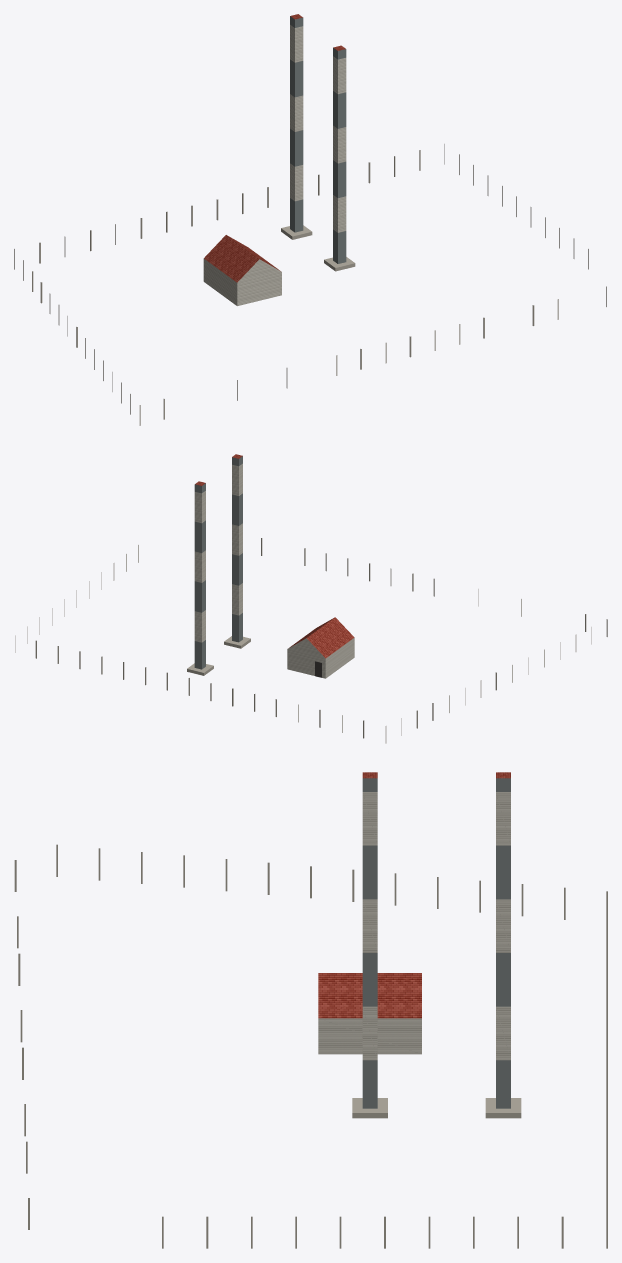
The model's file is cyxd_ndb_zxd_lod2.gltf.
The picture shows the model from 3 angles, top to bottom: view 1: azimuth 30°, elevation 25°; view 2: azimuth 150°, elevation 25°; view 3: azimuth 270°, elevation 25°; orthographic projection. The views are drawn at different scales.
Parts seen in each view (by area): view 1: cyxd_ndb_zxd; view 2: cyxd_ndb_zxd; view 3: cyxd_ndb_zxd.
Boxes of the visible parts, <box> form: cyxd_ndb_zxd: <box>14,14,606,425</box>; cyxd_ndb_zxd: <box>15,454,607,743</box>; cyxd_ndb_zxd: <box>14,772,607,1248</box>.
Size of the model in its own units: 60.12 by 25 by 40.12.
